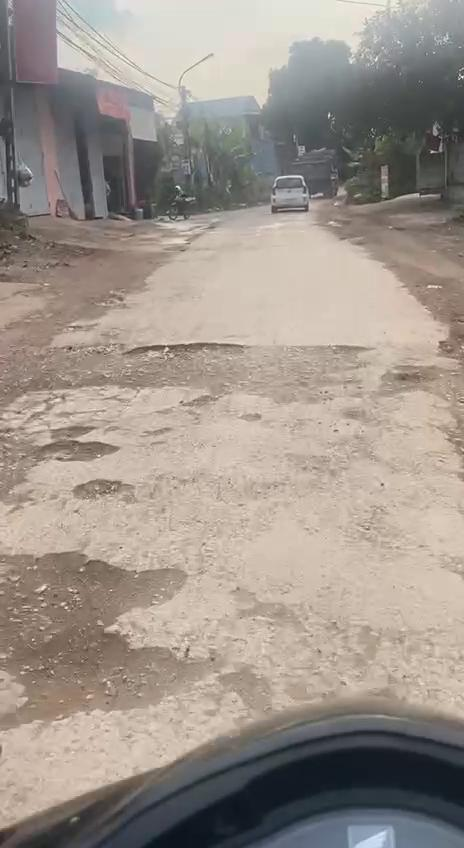pothole: (0, 548, 209, 727), (129, 339, 373, 403), (0, 424, 129, 499), (374, 360, 448, 402)
